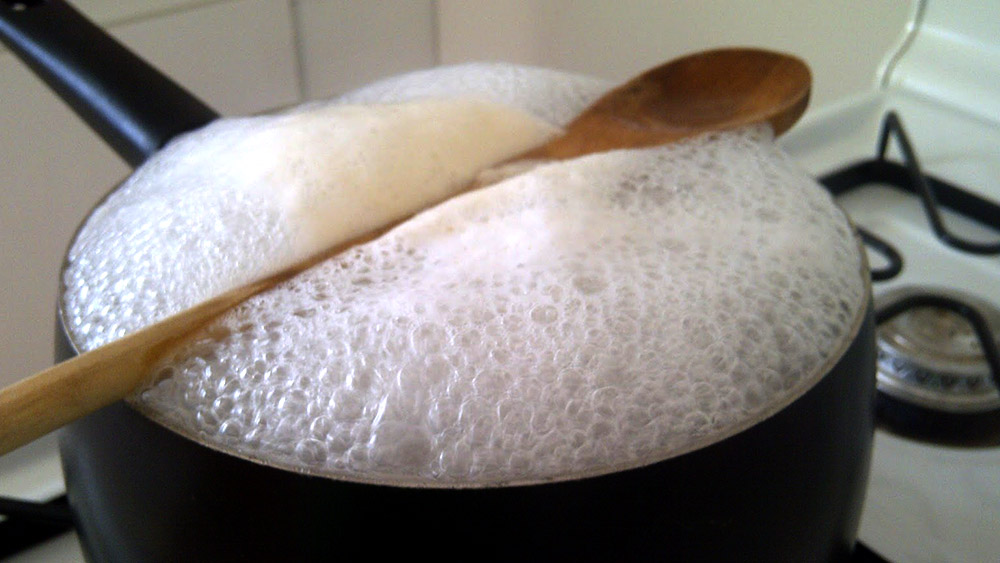Boiled: (46, 56, 922, 550)
